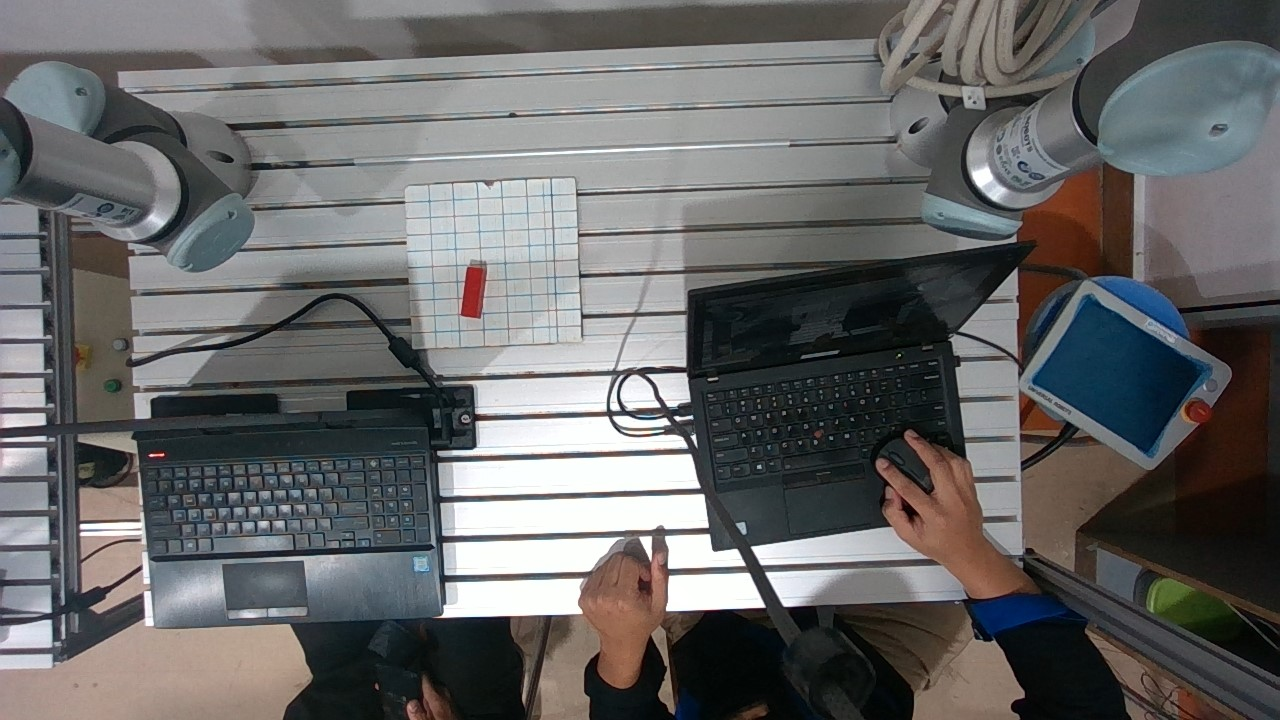box: (450, 256, 499, 331)
